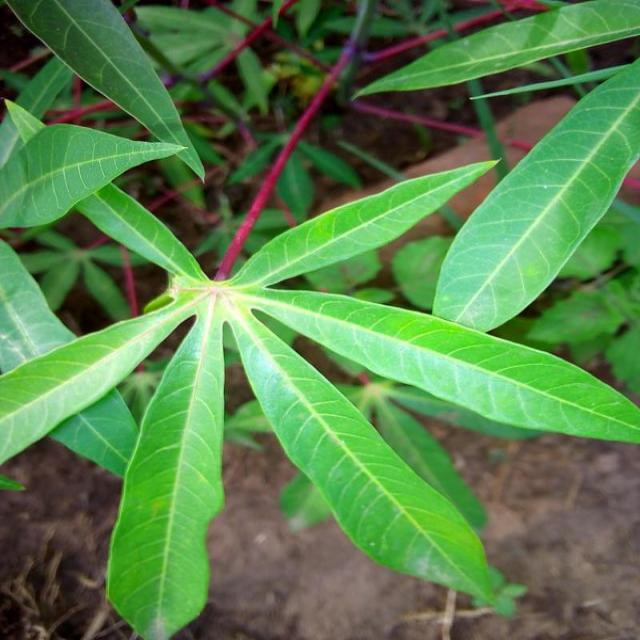cassava leaf: (2, 3, 639, 637), (227, 296, 524, 616), (431, 54, 640, 333), (106, 289, 227, 638), (6, 0, 207, 182)
